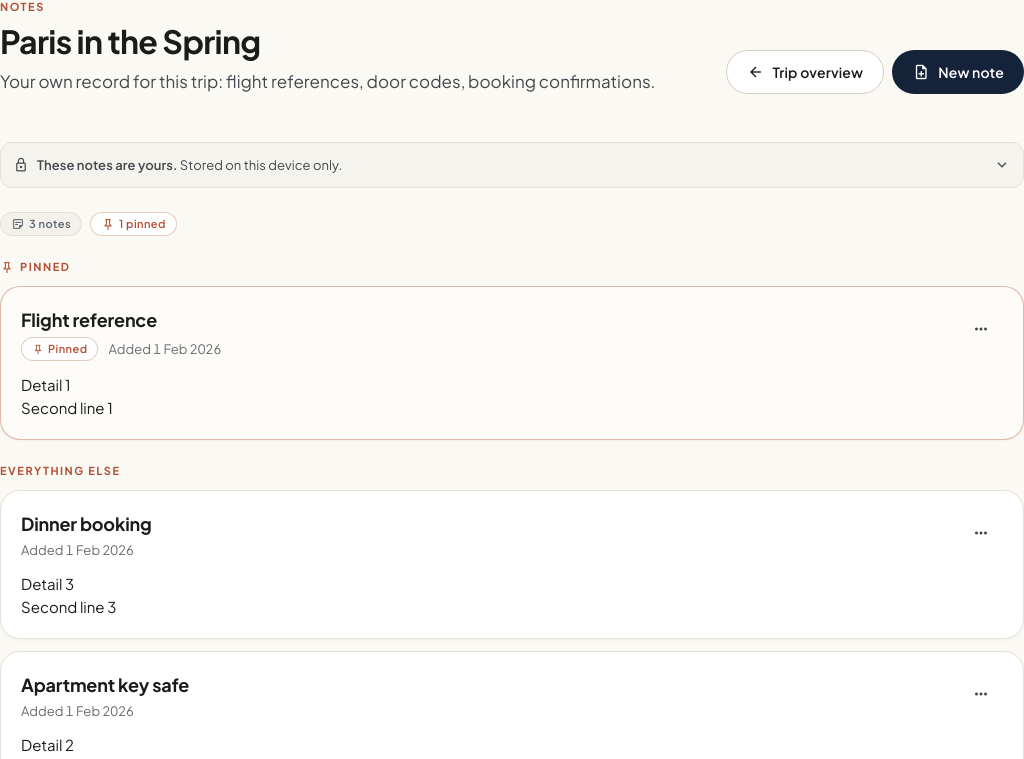
NotesPage › writing a note › refuses an empty note and says which field is the problem
Click the button "New note": click(958, 72) [892,50,1023,94]
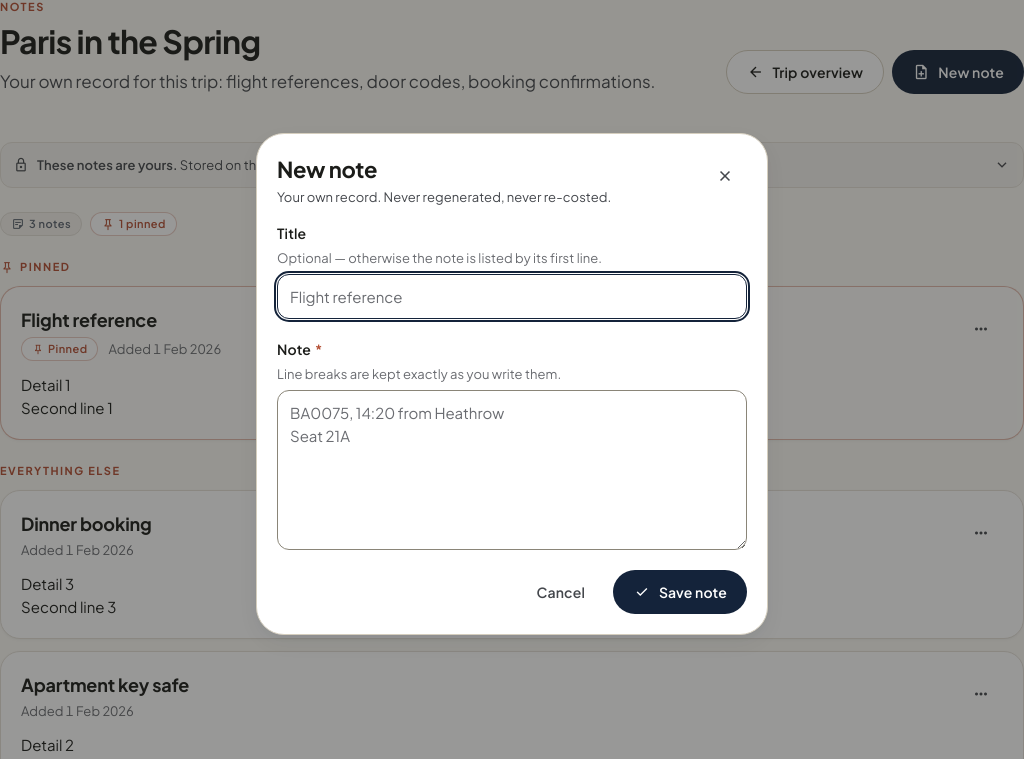
In the field labelled "Title": (512, 296) [277,274,747,319], type "Nothing useful"
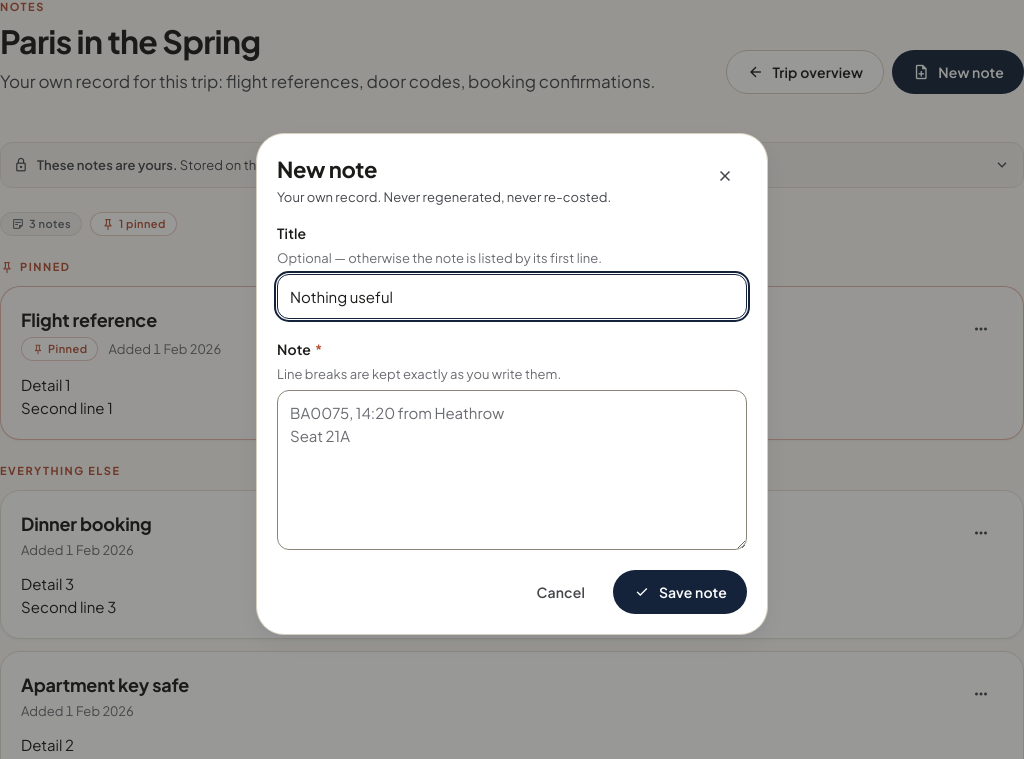
Click the button "Save note": click(680, 592) [613,570,747,614]
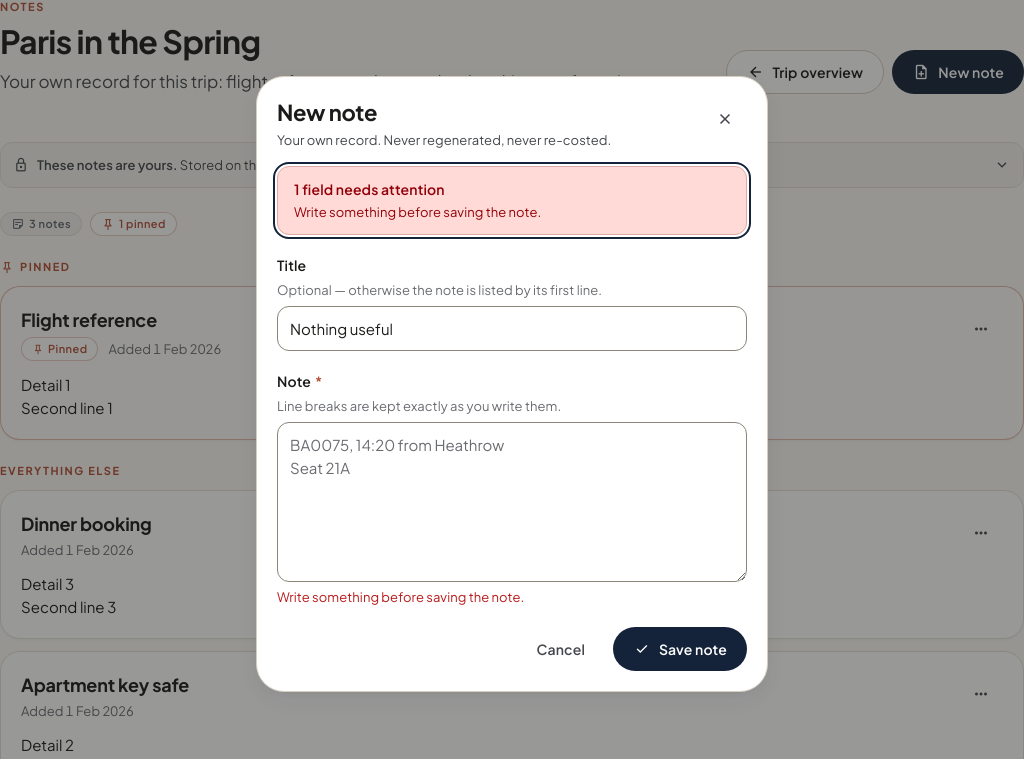
Now the message shows "Write something before saving the note.", box [294,204,541,220]
